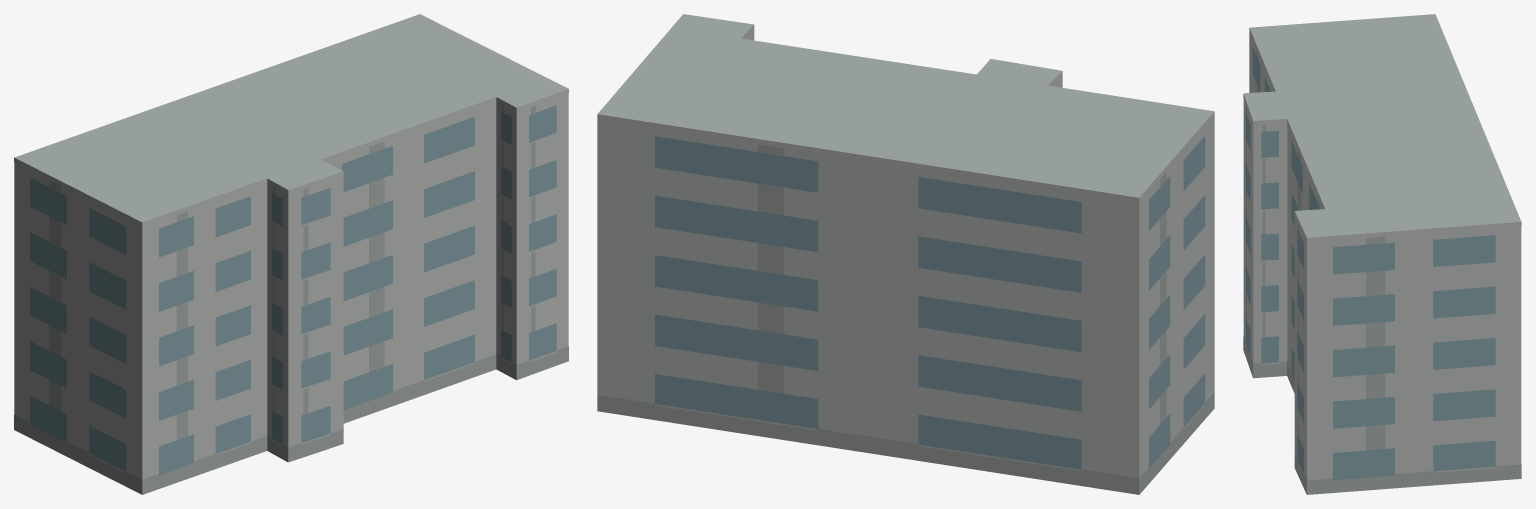
The model's file is survey-upis-33040133.glb.
3 views of the same model, side by side, from view 1: azimuth 30°, elevation 25°; view 2: azimuth 150°, elevation 25°; view 3: azimuth 270°, elevation 25° (orthographic). The views are drawn at different scales.
Visible parts, largest first — view 1: survey-upis-33040133.tmp; view 2: survey-upis-33040133.tmp; view 3: survey-upis-33040133.tmp.
Boxes of the visible parts, left/top/right/bottom form: survey-upis-33040133.tmp: left=14, top=14, right=568, bottom=494; survey-upis-33040133.tmp: left=597, top=14, right=1214, bottom=494; survey-upis-33040133.tmp: left=1243, top=14, right=1521, bottom=494.
Size of the model in its own units: 26.35 by 14.1 by 13.83.
